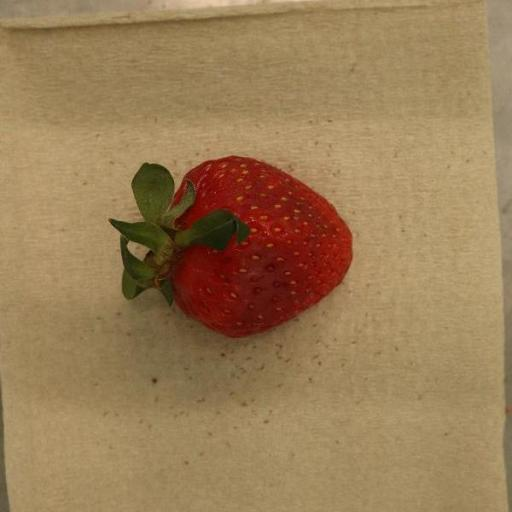Strawberry: (109, 156, 353, 339)
